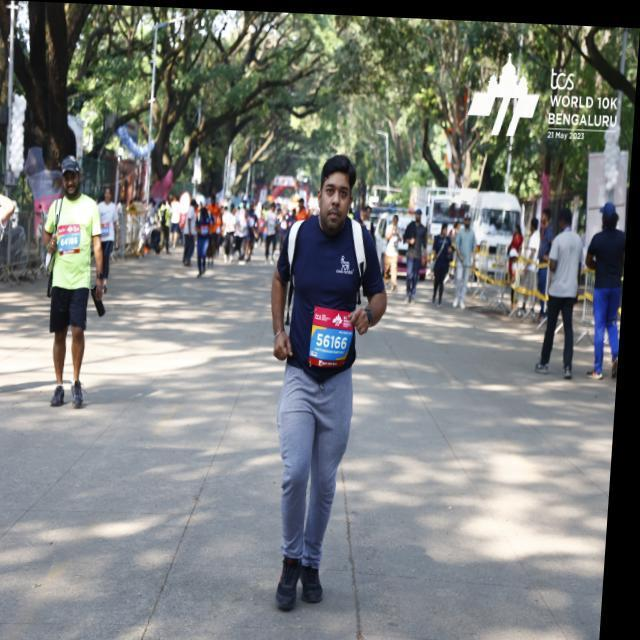dorsal: (314, 298, 361, 373)
